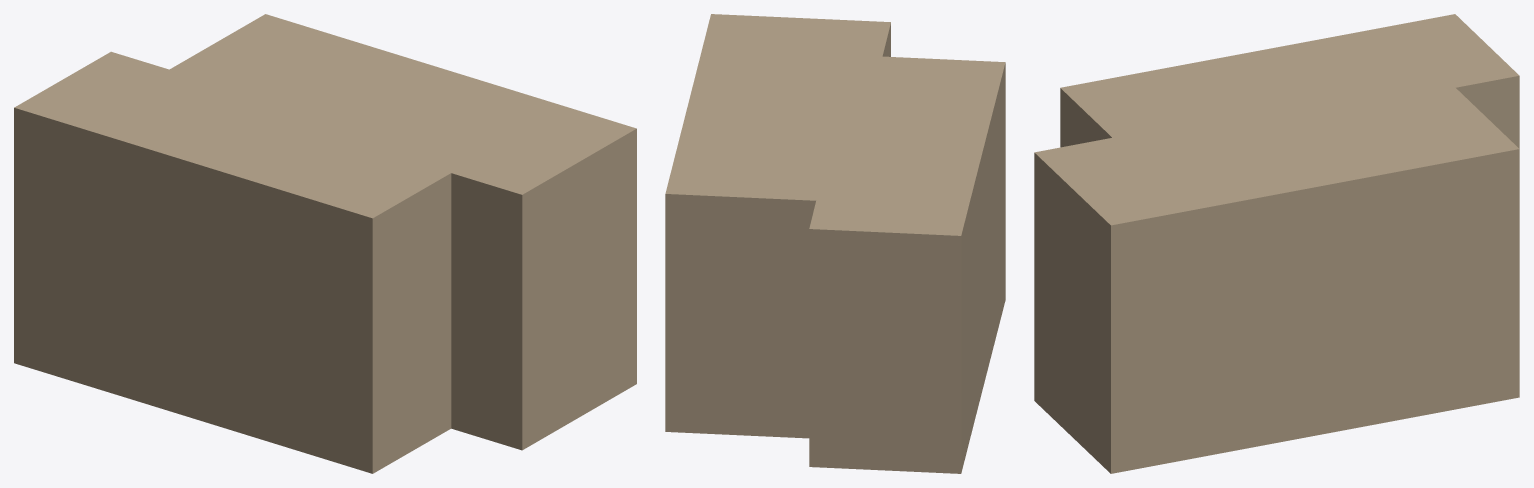
File: bld_106455982.dae
3 renders of one model, left to right at view 1: azimuth 30°, elevation 25°; view 2: azimuth 150°, elevation 25°; view 3: azimuth 270°, elevation 25°, orthographic. The views are drawn at different scales.
Parts seen in each view (by area): view 1: bld_106455982; view 2: bld_106455982; view 3: bld_106455982.
Boxes of the visible parts, x1,y1,x2,y2 form: bld_106455982: (14, 14, 636, 473); bld_106455982: (665, 14, 1005, 473); bld_106455982: (1034, 14, 1519, 473).
Size of the model in its own units: 14.6 by 14.16 by 8.
